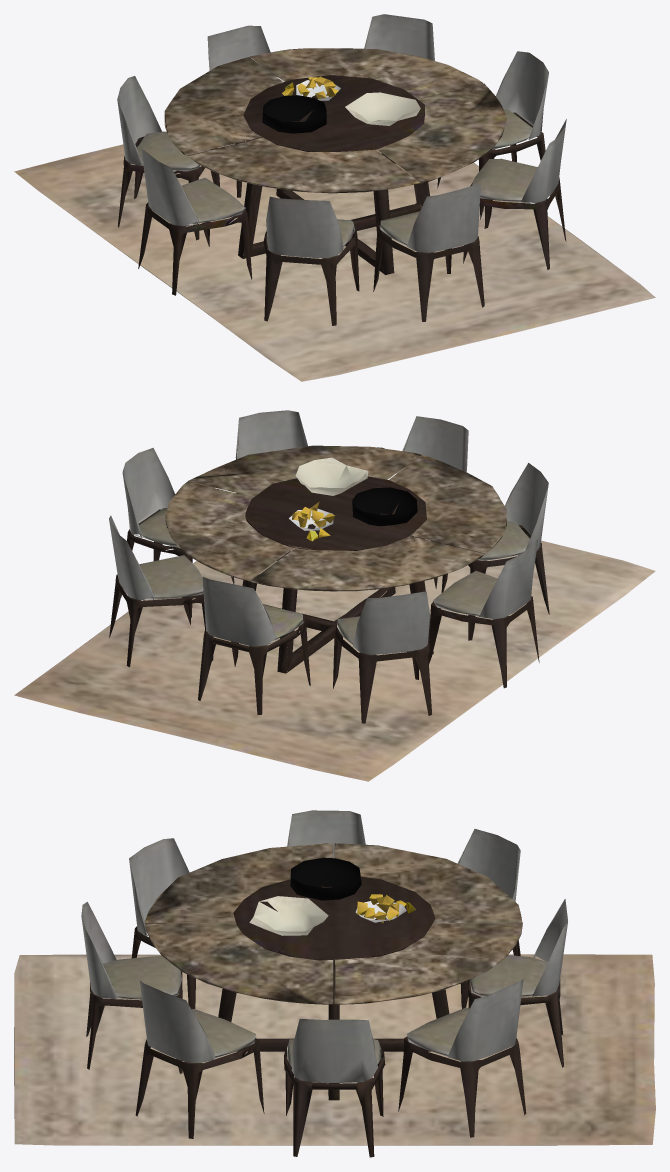
The model's file is DiningTable0005.obj.
3 renders of one model, top to bottom at view 1: azimuth 30°, elevation 25°; view 2: azimuth 150°, elevation 25°; view 3: azimuth 270°, elevation 25°, orthographic. The views are drawn at different scales.
Bounding box in the file's own units: 2.62 × 0.905 × 3.4.
Materials: 1 (1 with a texture image).
